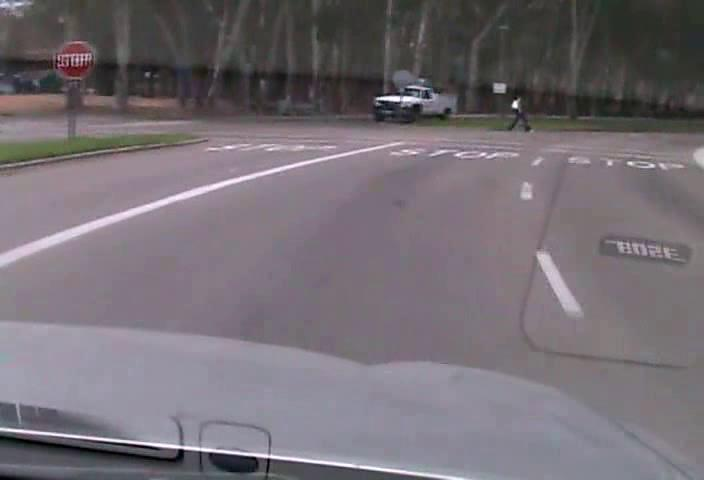stop: (54, 40, 94, 79)
